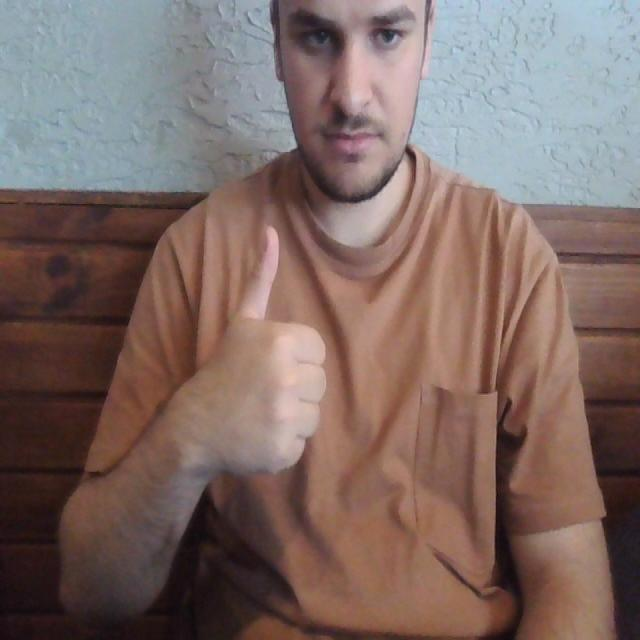Tamam: (191, 224, 330, 494)
